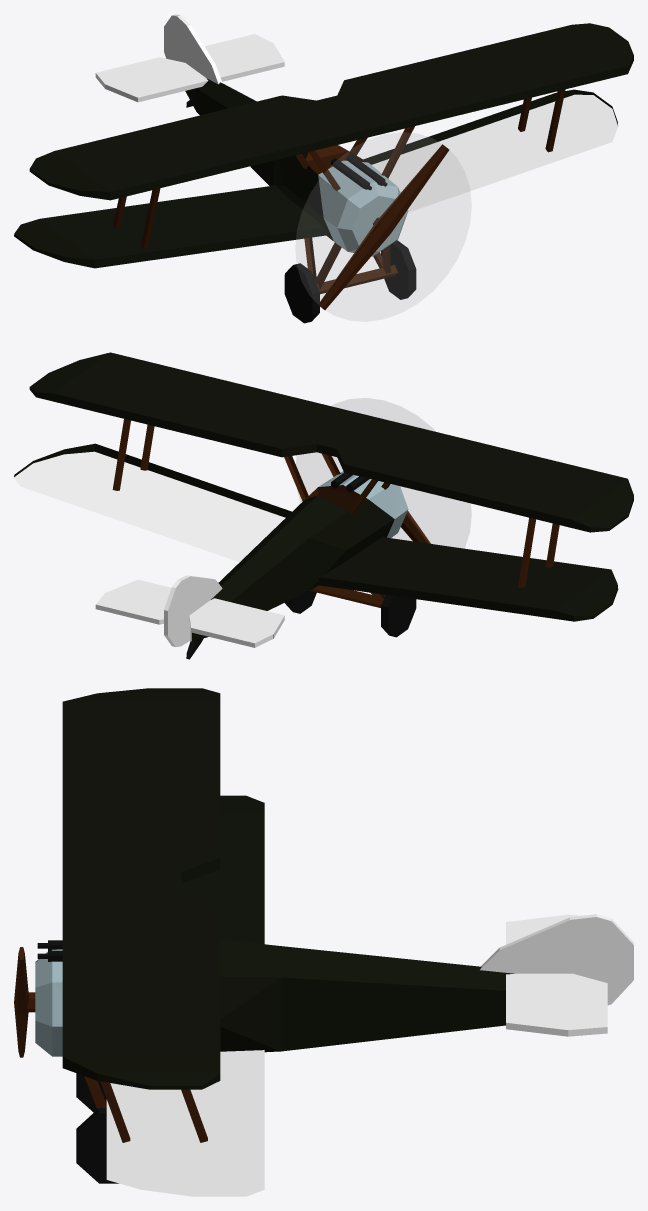
The model's file is biplane.obj.
3 renders of one model, top to bottom at view 1: azimuth 30°, elevation 25°; view 2: azimuth 150°, elevation 25°; view 3: azimuth 270°, elevation 25°, orthographic. The views are drawn at different scales.
Parts seen in each view (by area): view 1: Wings_Plane.001, Prop_Circle.001, Body_Circle, Tail_Cube.001; view 2: Wings_Plane.001, Body_Circle, Prop_Circle.001, Tail_Cube.001; view 3: Wings_Plane.001, Body_Circle, Tail_Cube.001, Prop_Circle.001.
Part boxes in pixels (<box>): Wings_Plane.001: <box>14,23,633,268</box>; Prop_Circle.001: <box>296,132,471,321</box>; Body_Circle: <box>95,24,416,323</box>; Tail_Cube.001: <box>164,14,190,63</box>; Wings_Plane.001: <box>14,352,633,621</box>; Body_Circle: <box>95,471,416,659</box>; Prop_Circle.001: <box>296,398,471,547</box>; Tail_Cube.001: <box>164,575,190,646</box>; Wings_Plane.001: <box>62,688,264,1196</box>; Body_Circle: <box>35,914,607,1183</box>; Tail_Cube.001: <box>570,914,633,1005</box>; Prop_Circle.001: <box>14,947,35,1057</box>.
Bounding box in the file's own units: 8.65 × 2.8 × 5.7.
